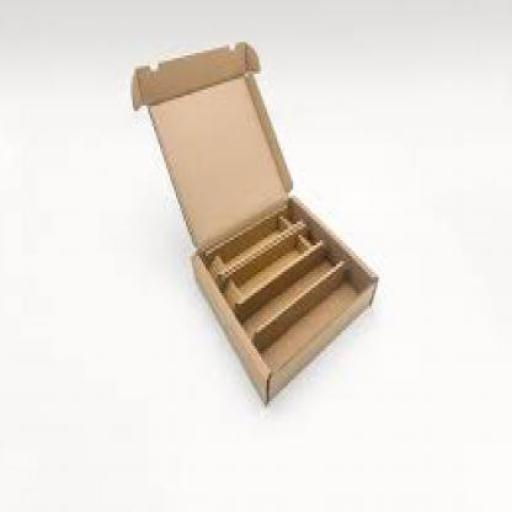cardboard: (134, 42, 382, 401)
